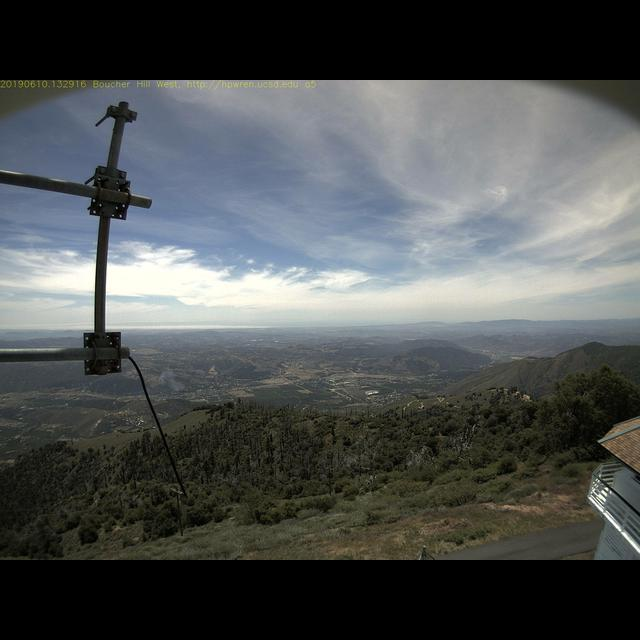Smoke: (138, 367, 188, 395)
